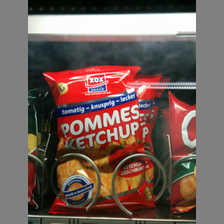chips: (48, 68, 155, 209)
